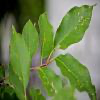Cherry leaf: (51, 3, 98, 56), (54, 52, 98, 99), (7, 23, 32, 97), (21, 16, 40, 64), (36, 65, 63, 98), (38, 8, 54, 61)
